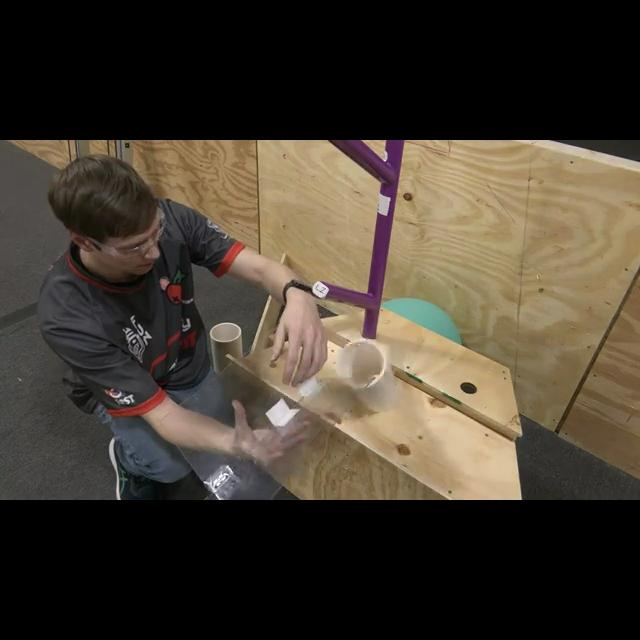CORAL: (334, 338, 398, 412), (210, 322, 244, 372)
